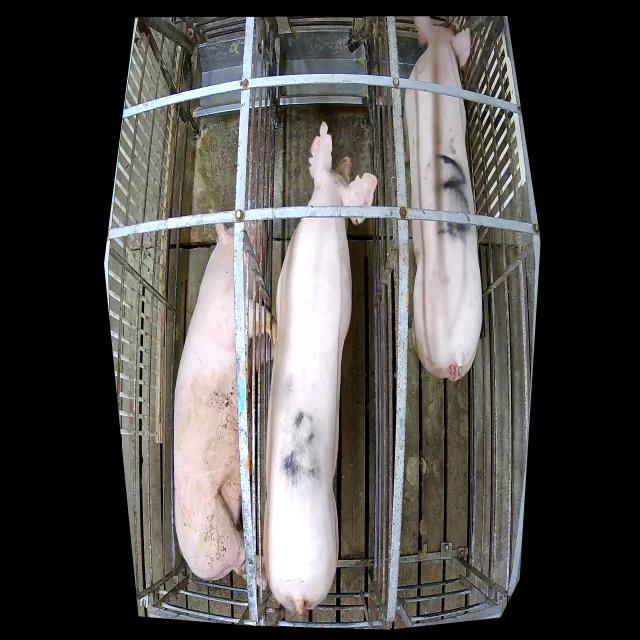pig: (264, 122, 378, 617), (174, 221, 277, 592), (403, 18, 482, 380)
